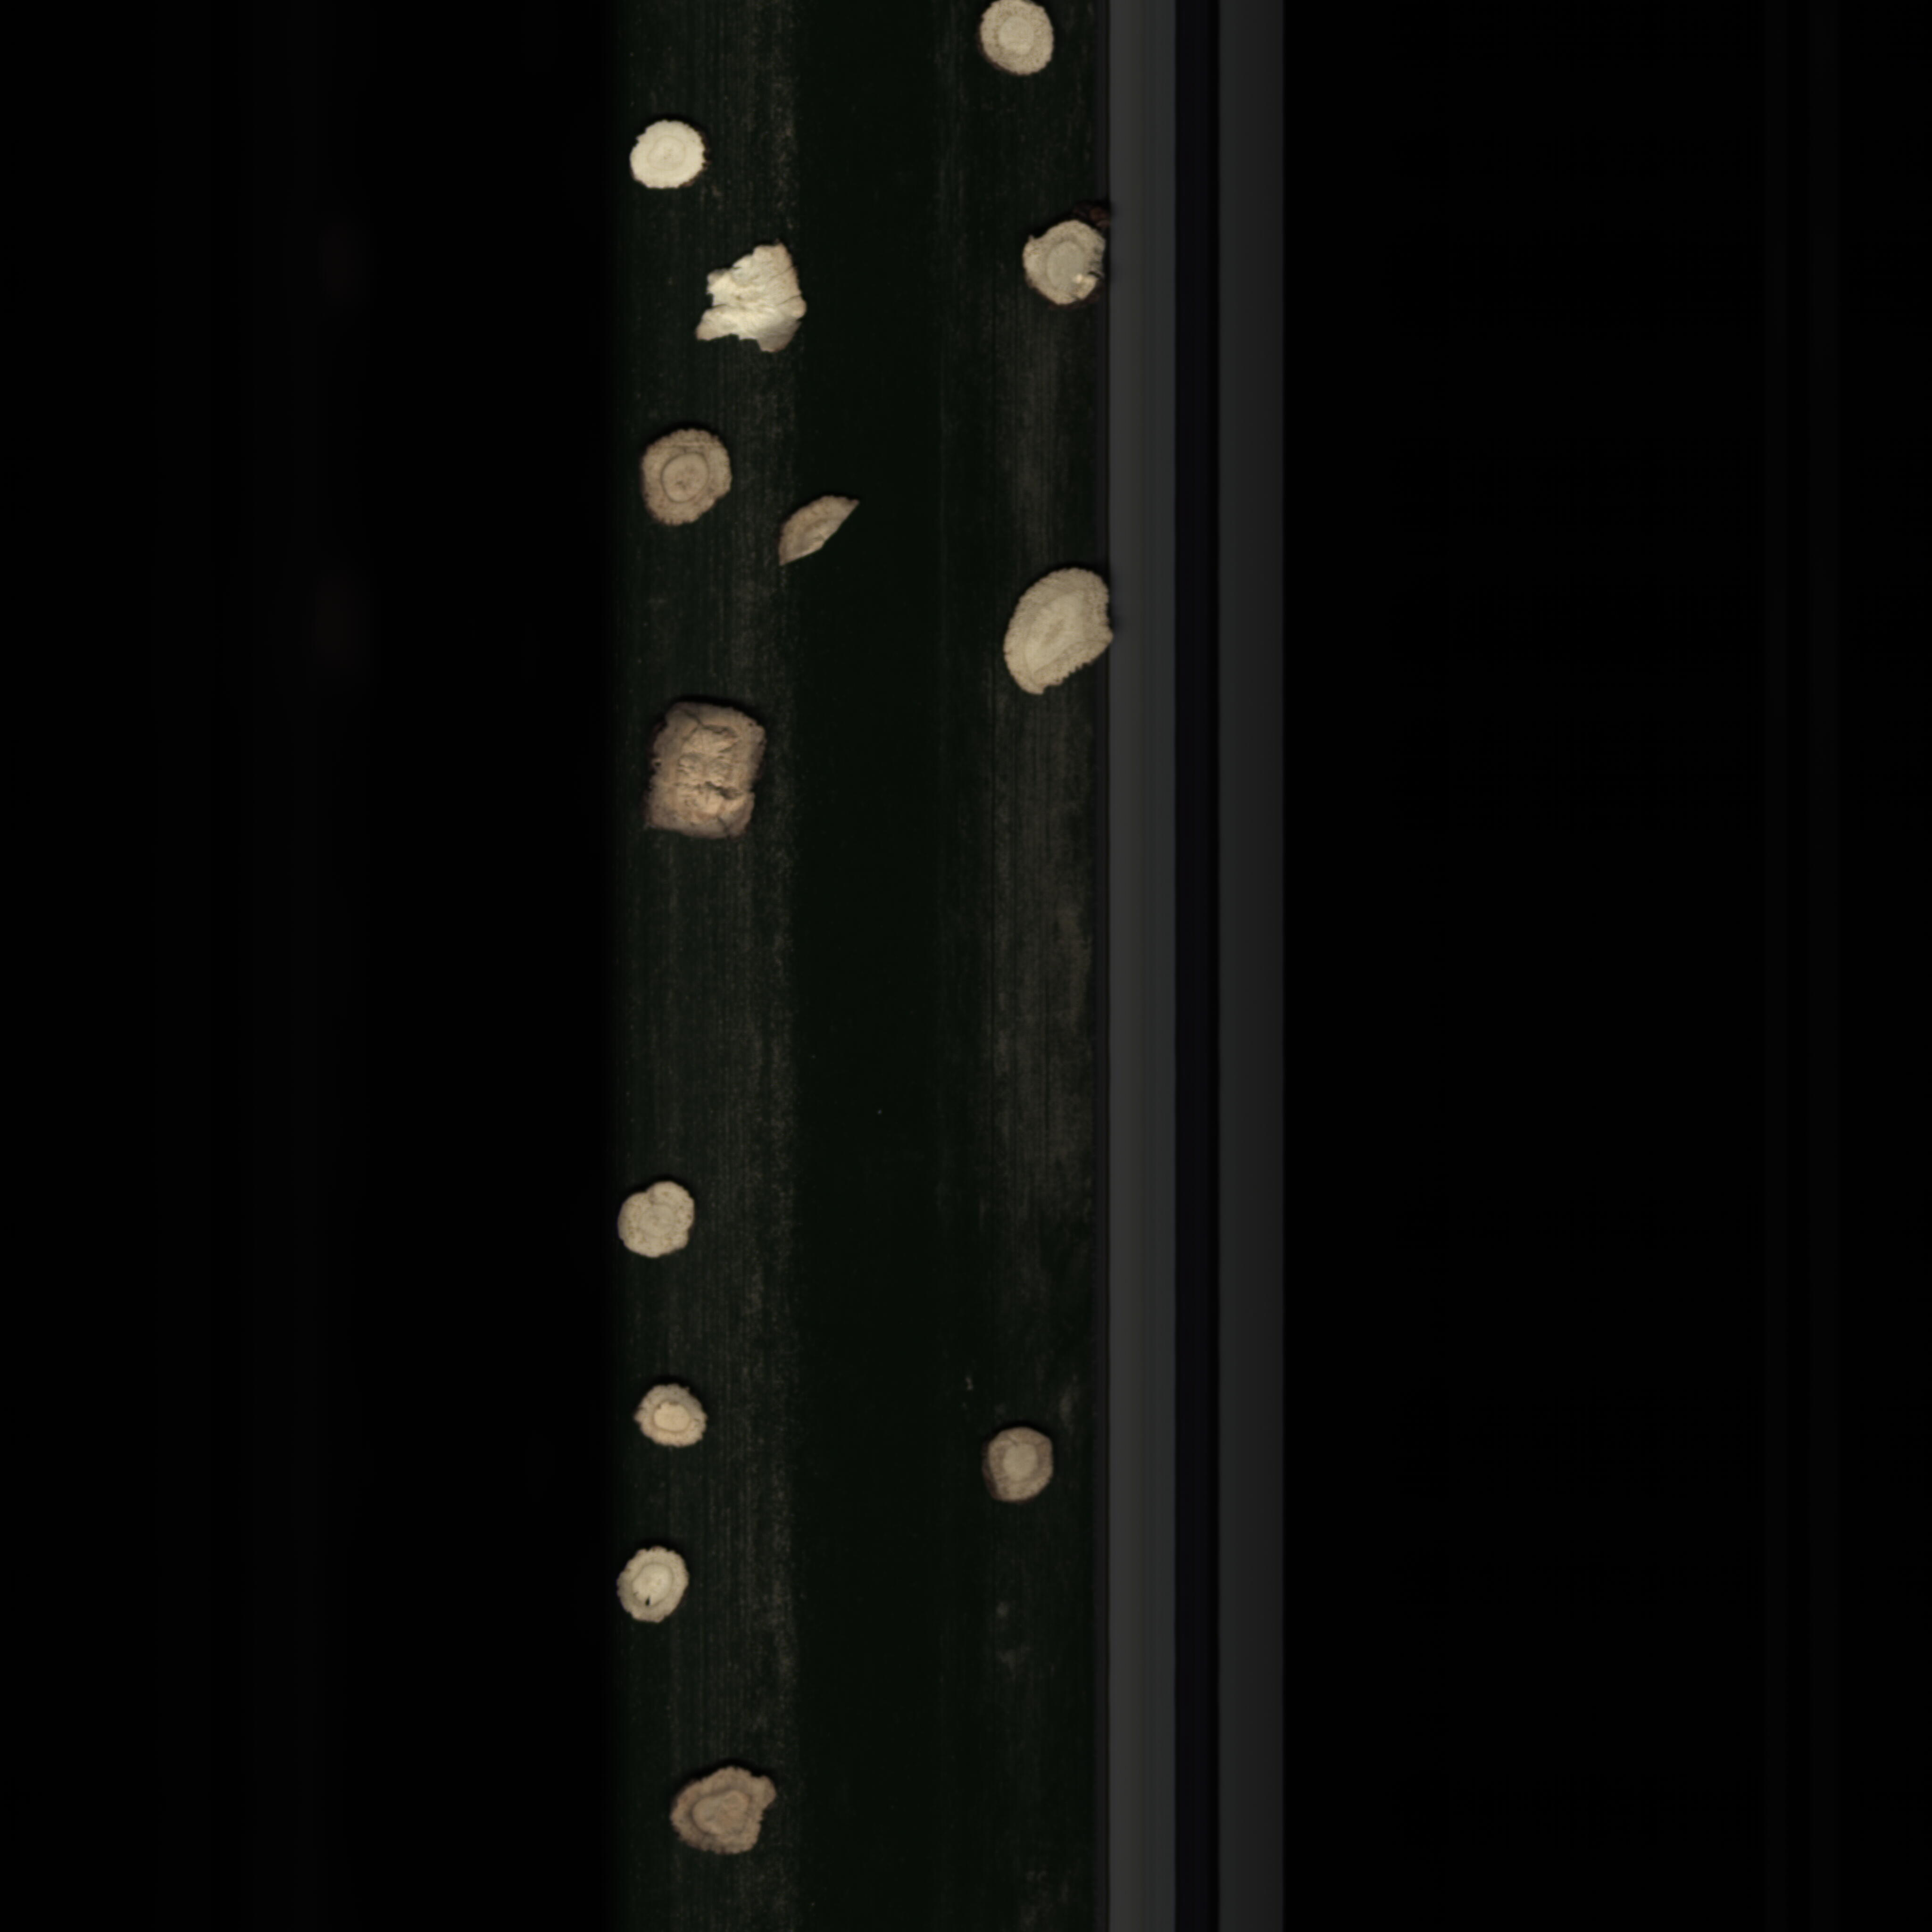debris: (993, 564, 1122, 701), (686, 237, 817, 363), (1008, 216, 1108, 315), (768, 479, 869, 575)
moldy: (637, 695, 782, 865), (656, 1762, 784, 1859), (978, 1424, 1065, 1509)
